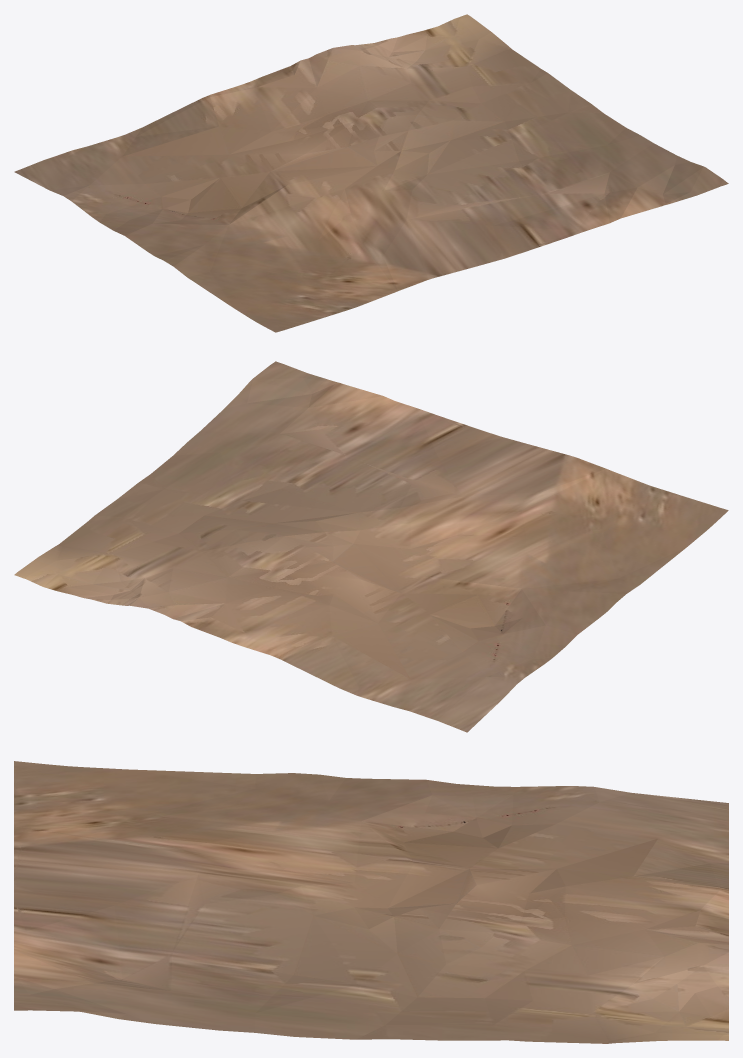
3 renders of one model, top to bottom at view 1: azimuth 30°, elevation 25°; view 2: azimuth 150°, elevation 25°; view 3: azimuth 270°, elevation 25°, orthographic. The views are drawn at different scales.
Size of the model in its own units: 1.04 by 0.1529 by 1.04.
2 materials, 2 textured.
